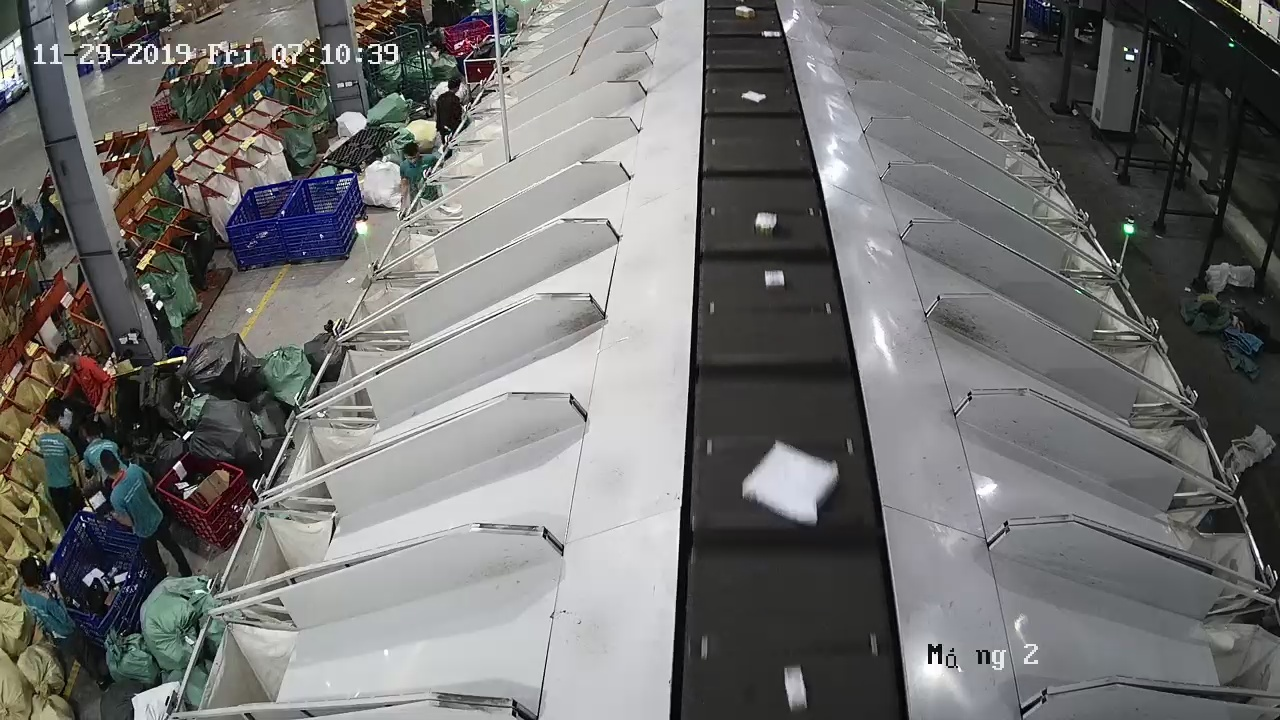parcel: (742, 440, 840, 528), (784, 666, 808, 713), (754, 211, 778, 237), (764, 269, 785, 290)
